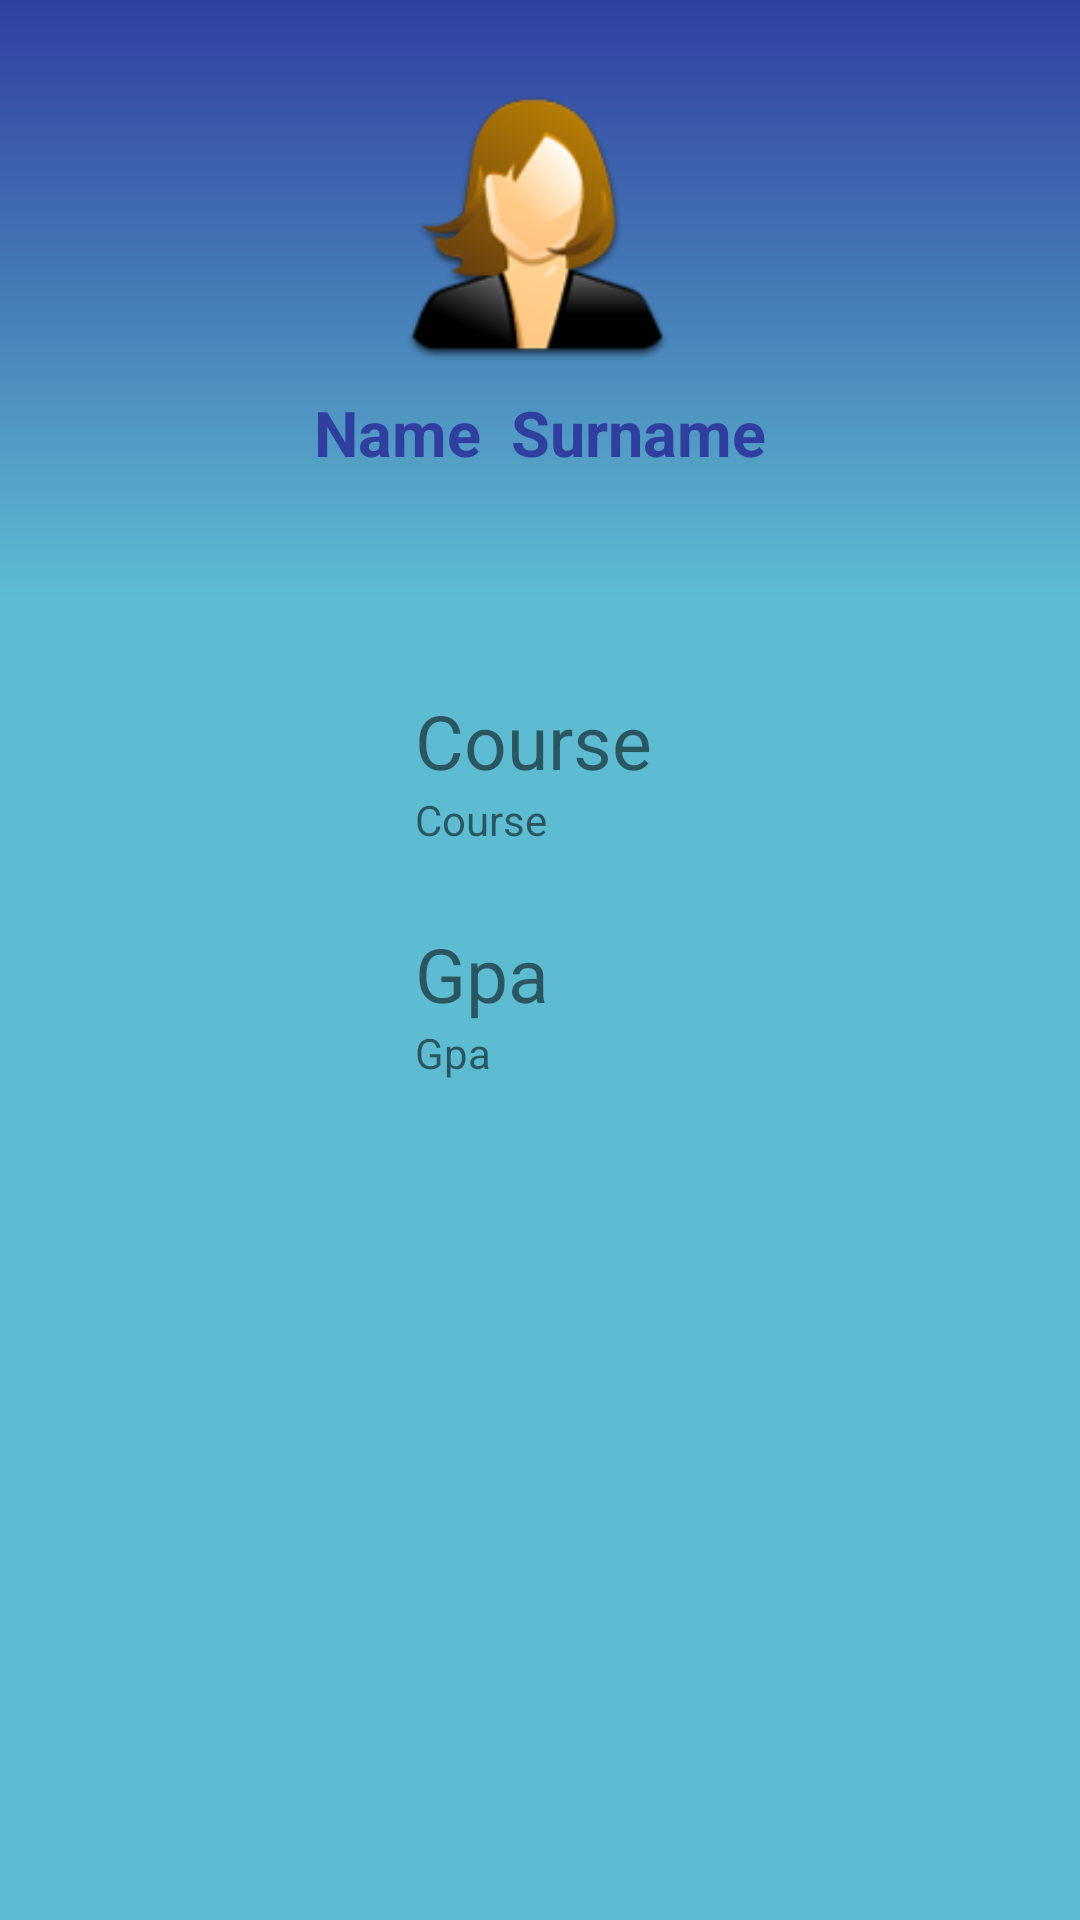

Icon click points for this 1080px x 1920px phone screenshot, format (x=x, y=y):
female: (x=540, y=210)
